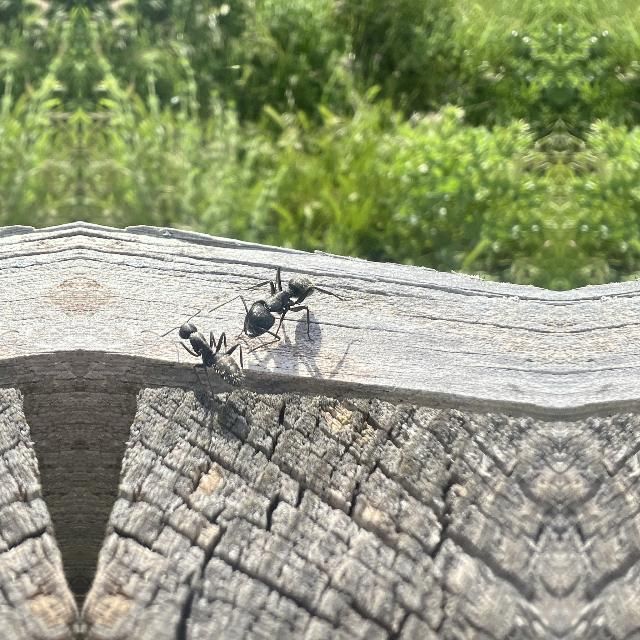Camponotus: (212, 271, 332, 343), (176, 304, 256, 391)
